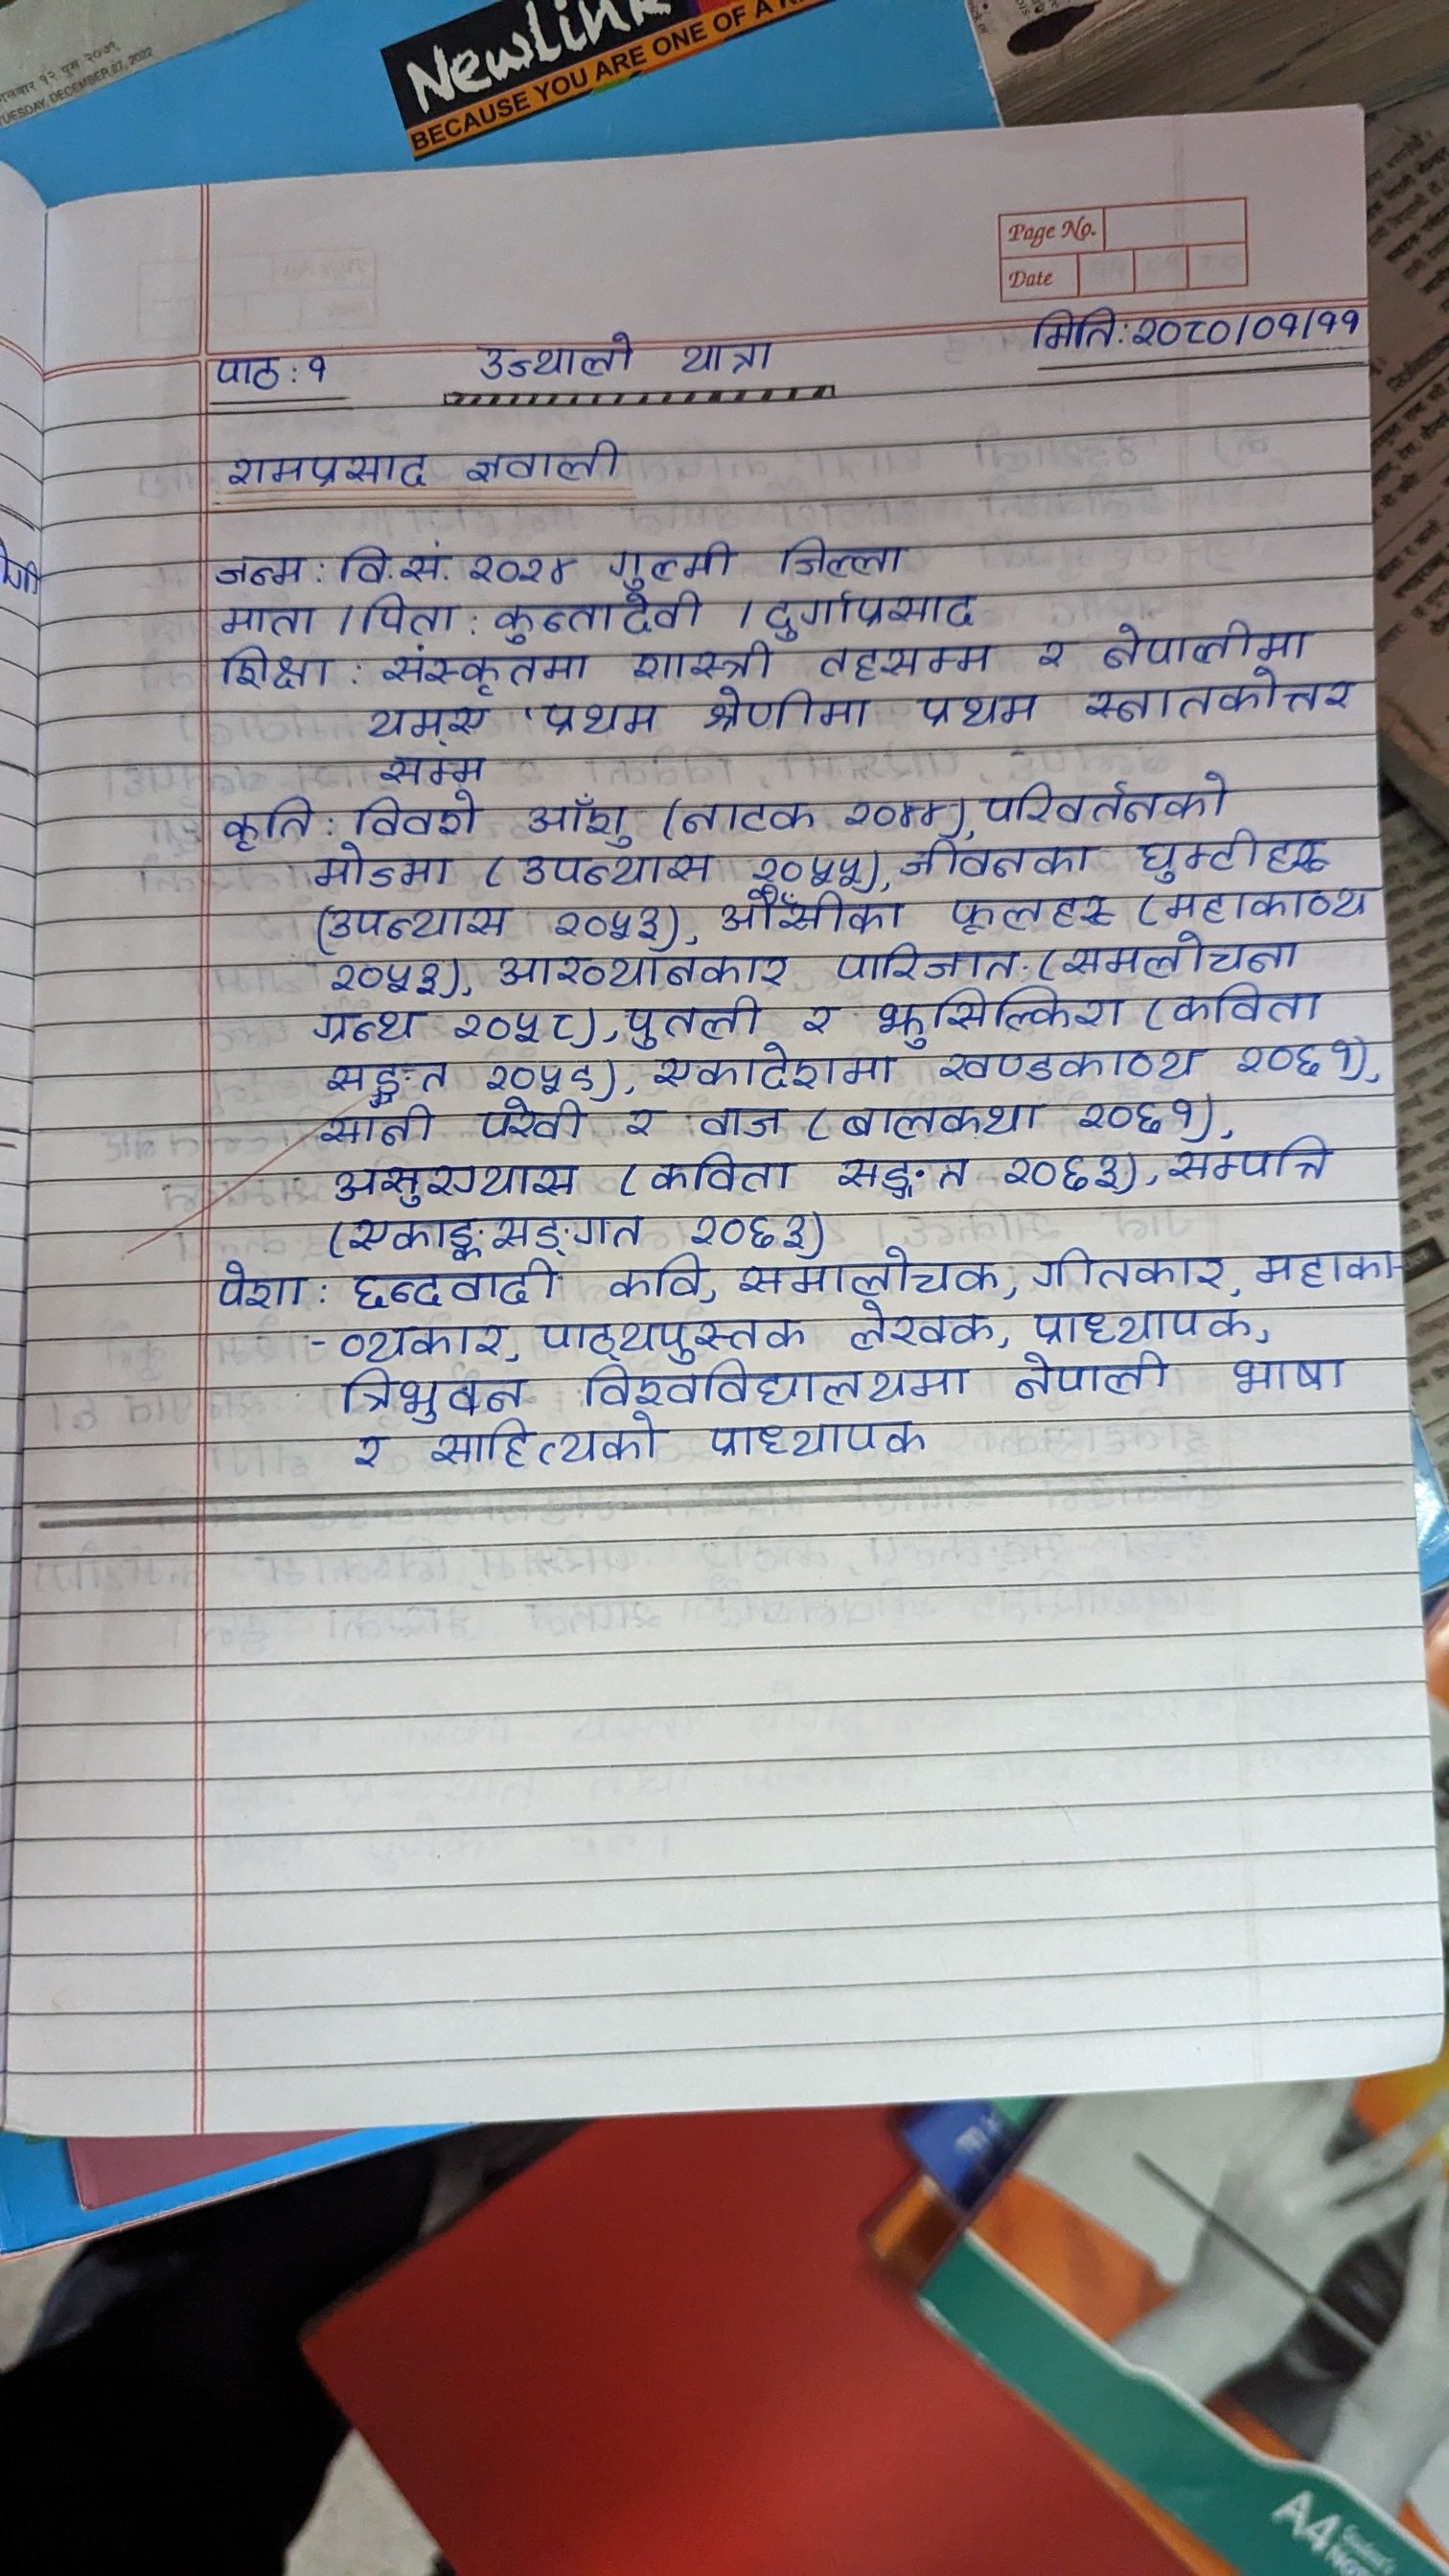text: (571, 1364, 973, 1405), (1086, 672, 1359, 731), (492, 945, 793, 993), (870, 985, 1123, 1040), (978, 768, 1228, 823), (347, 1214, 648, 1258), (218, 448, 428, 504), (738, 1254, 1007, 1299), (536, 1316, 805, 1361), (370, 644, 602, 695), (327, 1161, 582, 1207), (432, 1421, 667, 1470), (757, 587, 984, 637), (938, 1044, 1207, 1083), (1063, 934, 1307, 977), (471, 324, 642, 384), (492, 593, 708, 640), (352, 1260, 559, 1309), (649, 1049, 895, 1090), (1099, 623, 1313, 669), (1131, 828, 1325, 878), (458, 435, 628, 492), (1026, 1304, 1256, 1345), (1026, 1244, 1226, 1290), (340, 1369, 527, 1417), (1166, 1141, 1339, 1192), (895, 835, 1090, 879), (706, 1421, 936, 1458), (824, 941, 1023, 984), (720, 888, 909, 932), (1014, 1353, 1173, 1405), (1162, 888, 1375, 925), (598, 536, 734, 591), (706, 688, 872, 732), (320, 899, 508, 938), (839, 1102, 1039, 1138), (619, 996, 761, 1046), (347, 789, 476, 842), (846, 1304, 994, 1350), (515, 849, 717, 883), (948, 893, 1115, 932), (681, 793, 821, 839), (835, 1154, 975, 1200), (766, 534, 911, 579), (819, 642, 991, 679), (324, 1056, 451, 1106), (1019, 297, 1122, 357), (538, 699, 671, 745), (1169, 984, 1318, 1024), (340, 1323, 502, 1361), (522, 793, 635, 846), (214, 793, 317, 851), (1233, 1033, 1353, 1083), (218, 646, 333, 697), (453, 1005, 584, 1049), (630, 642, 775, 681), (1249, 1247, 1394, 1286), (1003, 1148, 1125, 1194), (1076, 1090, 1194, 1136), (651, 1154, 789, 1192), (913, 690, 1049, 729), (311, 855, 451, 892), (214, 1261, 308, 1315), (686, 1210, 809, 1251), (313, 1007, 428, 1049), (476, 1099, 582, 1145), (679, 331, 777, 380), (1228, 1355, 1352, 1394), (548, 904, 665, 945), (363, 704, 490, 741), (479, 1056, 605, 1093), (205, 343, 287, 400), (465, 547, 575, 587), (326, 959, 444, 996), (1138, 304, 1231, 350), (214, 543, 303, 591), (612, 1260, 708, 1304), (743, 849, 862, 885), (318, 1109, 433, 1145), (363, 596, 458, 635), (377, 752, 487, 786), (214, 600, 317, 635), (695, 1100, 786, 1139), (847, 800, 948, 830), (334, 538, 389, 591), (352, 1433, 402, 1481), (398, 543, 451, 587), (1249, 308, 1299, 349), (1031, 630, 1072, 676), (1316, 303, 1355, 343), (301, 343, 331, 393), (619, 1108, 662, 1139), (801, 1005, 837, 1039)
